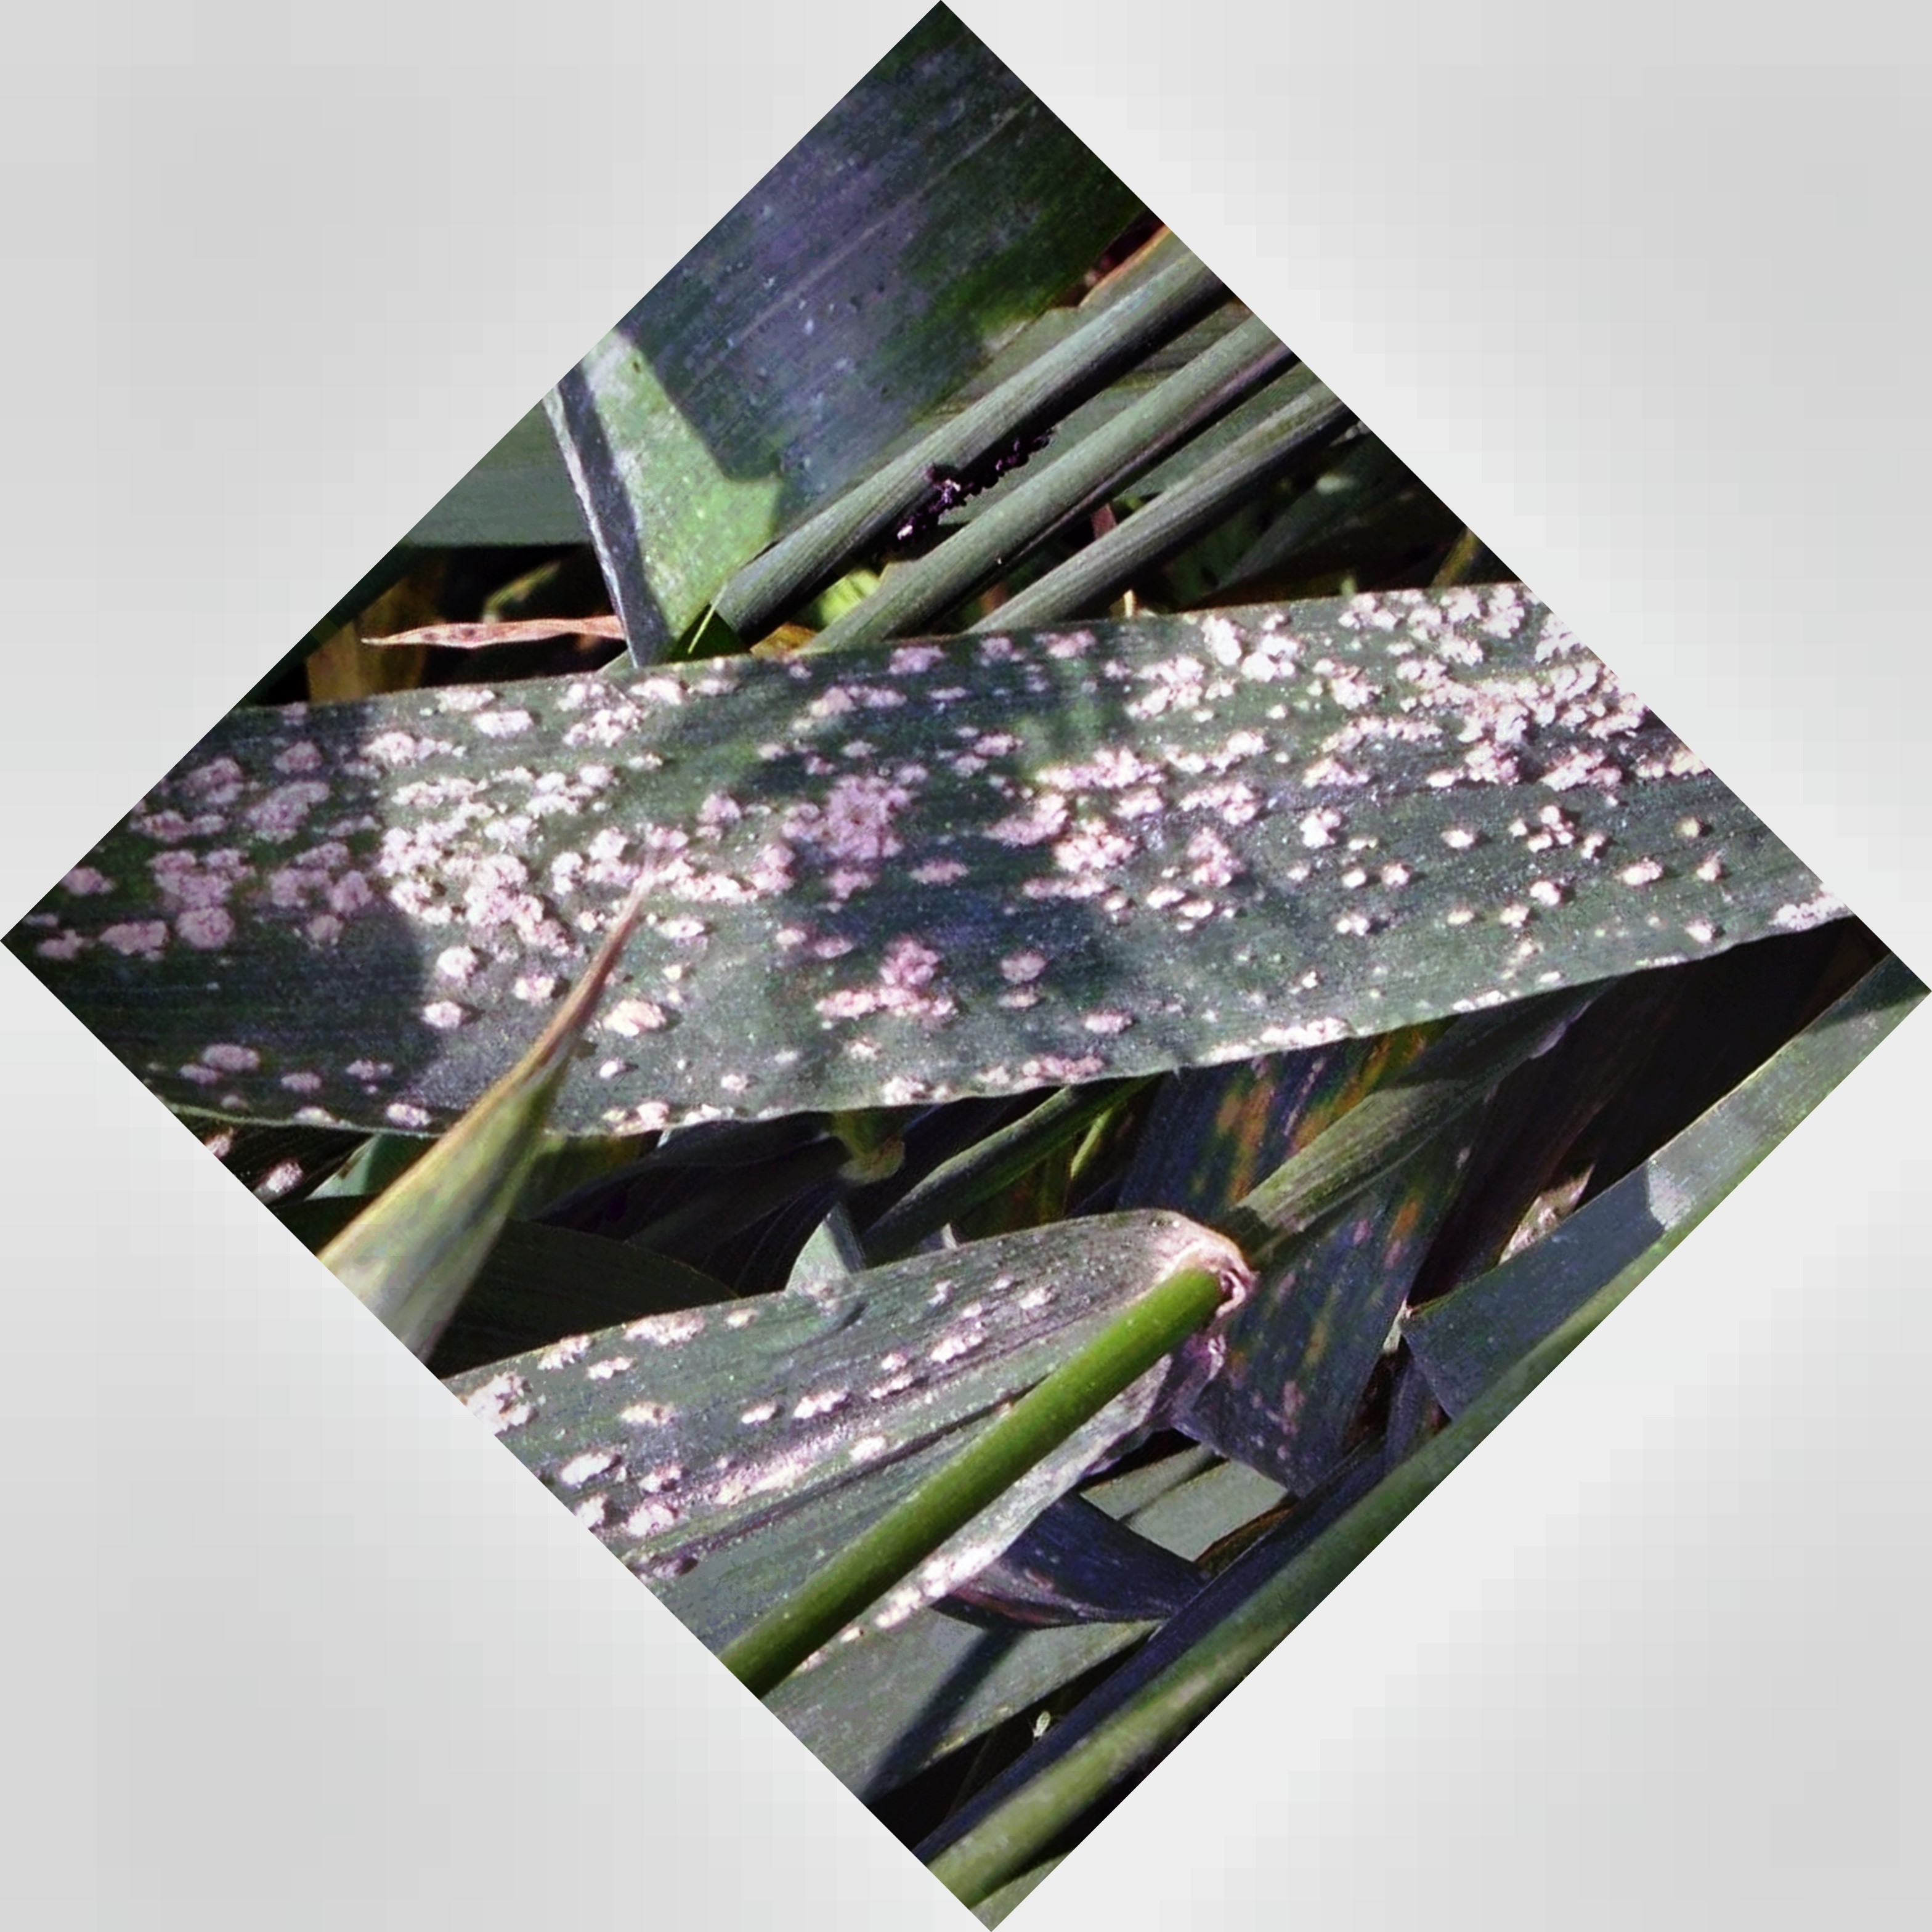Powdery Mildew: (223, 557, 1661, 1129)
